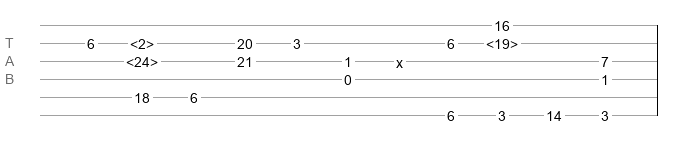0: (344, 72, 352, 82)
1: (344, 54, 352, 64), (601, 72, 609, 82)
14: (546, 108, 562, 118)
16: (494, 18, 510, 28)
18: (134, 90, 150, 100)
20: (237, 36, 253, 46)
21: (237, 54, 253, 64)
3: (293, 36, 301, 46), (498, 108, 506, 118), (601, 108, 609, 118)
6: (87, 36, 95, 46), (190, 90, 198, 100), (447, 108, 455, 118), (447, 36, 455, 46)
7: (601, 54, 609, 64)
harmonic: (126, 54, 158, 64), (486, 36, 518, 46), (130, 36, 154, 46)
x: (396, 55, 403, 63)
